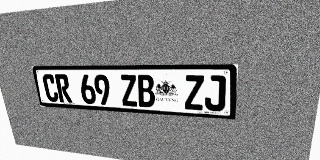6: (78, 74, 97, 104)
9: (93, 74, 112, 105)
B: (136, 75, 155, 108)
C: (42, 74, 59, 102)
J: (205, 75, 226, 112)
R: (54, 74, 72, 103)
Z: (184, 75, 204, 110), (119, 75, 138, 107)
